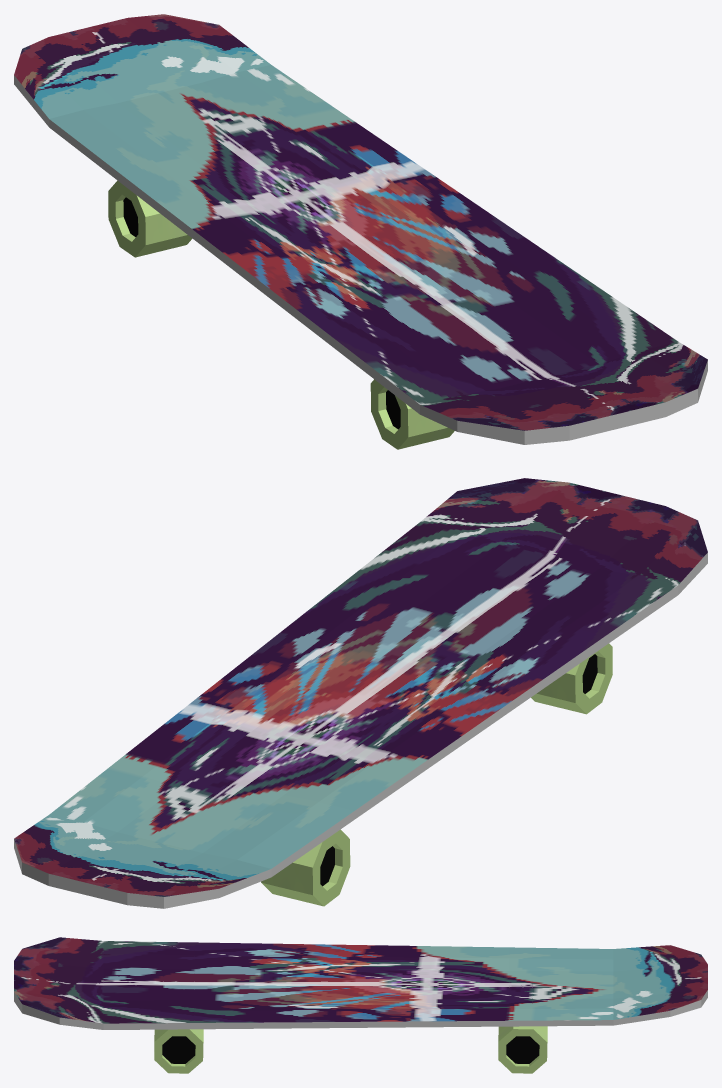
Rendered from Skateboard_Supernova.fbx.
3 renders of one model, top to bottom at view 1: azimuth 30°, elevation 25°; view 2: azimuth 150°, elevation 25°; view 3: azimuth 270°, elevation 25°, orthographic. The views are drawn at different scales.
Parts seen in each view (by area): view 1: Skateboard_Supernova; view 2: Skateboard_Supernova; view 3: Skateboard_Supernova.
Part boxes in pixels (box(x1,y1,x2,y2)): Skateboard_Supernova: box(14, 14, 707, 449); Skateboard_Supernova: box(14, 478, 707, 908); Skateboard_Supernova: box(14, 937, 707, 1073).
Size of the model in its own units: 40.39 by 14.58 by 143.
